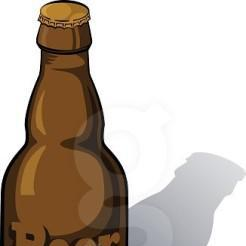beer: (1, 1, 130, 246)
